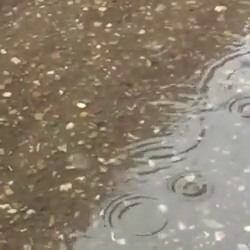drop: (103, 192, 168, 236), (167, 169, 213, 199), (156, 84, 201, 112), (226, 96, 250, 119), (67, 154, 91, 170)
